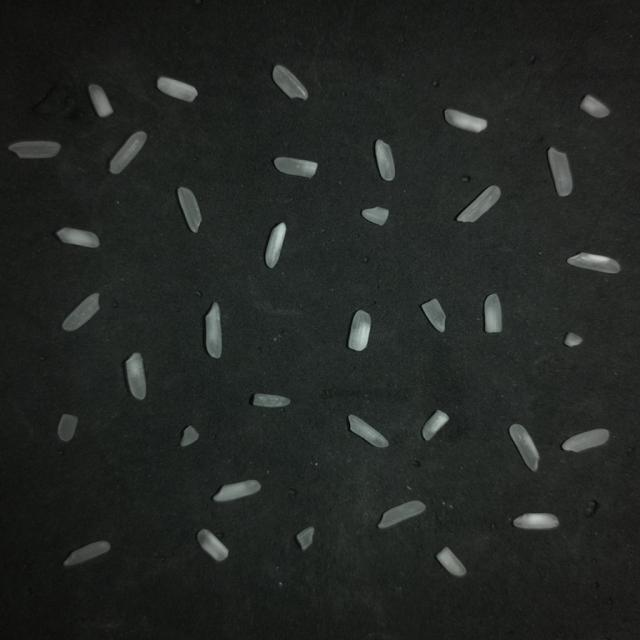broken: (422, 299, 445, 332), (58, 414, 78, 441), (296, 527, 314, 550), (180, 426, 199, 446), (564, 332, 583, 346)
chalky: (457, 185, 500, 222), (62, 294, 99, 331), (349, 415, 388, 448), (548, 148, 572, 196), (567, 252, 620, 273), (562, 429, 609, 452), (444, 109, 487, 133), (157, 77, 198, 102), (197, 529, 228, 561), (214, 480, 261, 501), (265, 222, 286, 268), (274, 157, 318, 178), (126, 353, 146, 399), (349, 310, 371, 351), (205, 303, 221, 358), (436, 547, 466, 576), (56, 228, 99, 248), (422, 410, 448, 441), (89, 84, 113, 117), (375, 140, 394, 181), (513, 513, 558, 529), (484, 294, 502, 333), (580, 95, 609, 118), (253, 394, 290, 408), (362, 207, 389, 225)
whole: (110, 132, 147, 174), (509, 424, 539, 471), (378, 500, 425, 528), (272, 65, 308, 99), (64, 541, 110, 566), (178, 187, 201, 233), (9, 141, 61, 158)
